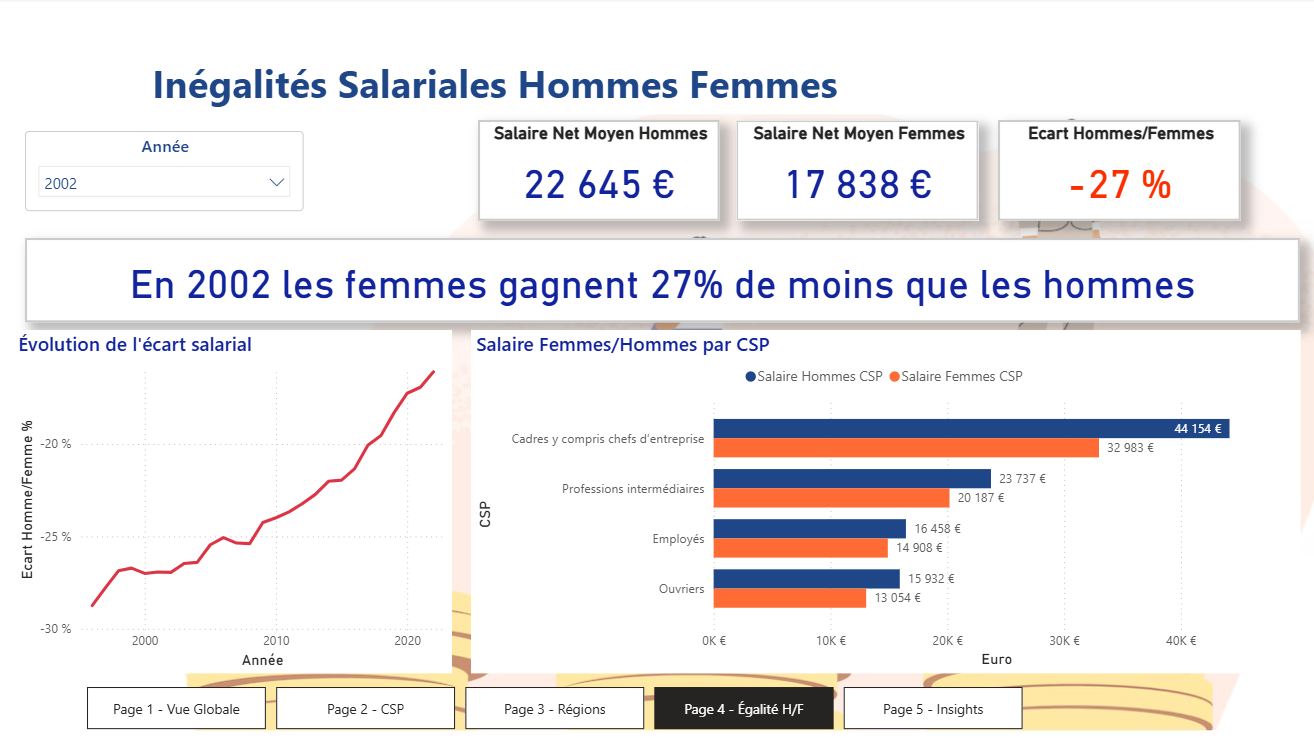

What the dashboard file says about the page in this screenshot:
{"tool":"powerbi","page":{"name":"Page 4 - Égalité H/F","canvas":[1280,720],"ordinal":3},"visuals":[{"type":"card","title":"Salaire Net Moyen Hommes","fields":{"Values":["_Measure.Salaire Hommes"]},"box":[466.3,118.5,235,98.4],"z":0},{"type":"card","title":"Salaire Net Moyen Femmes","fields":{"Values":["_Measure.Salaire Femmes"]},"box":[717.3,118.5,235.9,98.4],"z":1000},{"type":"textbox","box":[25.7,34.6,914.2,78],"z":2000},{"type":"slicer","title":"Année","fields":{"Values":["_Calendrier.Annee"]},"box":[25.7,129.3,271.2,78.2],"z":3000},{"type":"card","title":"SMIC Net Annuel","fields":{"Values":["_Measure.Ecart HF phrase"]},"box":[25.7,233.1,1240.5,82],"z":4000},{"type":"card","title":"Ecart Hommes/Femmes","fields":{"Values":["_Measure.Ecart HF %"]},"box":[971.8,118.5,235.9,98.4],"z":5000},{"type":"lineChart","title":"Évolution de l''écart salarial","fields":{"Category":["_Calendrier.Date.Variation.Date Hierarchy.Year"],"Y":["_Measure.Ecart HF %"]},"box":[13.6,322.9,427,333.6],"z":6000},{"type":"clusteredBarChart","title":"Salaire Femmes/Hommes par CSP","fields":{"Category":["Dim_CSP.Libelle"],"Y":["_Measure.Salaire Hommes CSP","_Measure.Salaire Femmes CSP"]},"box":[459.1,322.9,807.3,333.6],"z":7000},{"type":"pageNavigator","box":[85.6,670.2,913.3,41.8],"z":7001}]}

Visuals, with their boxes in screenshot pixels (x1, y1, x2, y2), scaled from the page's 1280x720 canvas onto the 1314x738 screenshot:
"Salaire Net Moyen Hommes" card: <region>479, 121, 720, 222</region>
"Salaire Net Moyen Femmes" card: <region>736, 121, 979, 222</region>
textbox: <region>26, 35, 965, 115</region>
"Année" slicer: <region>26, 133, 305, 213</region>
"SMIC Net Annuel" card: <region>26, 239, 1300, 323</region>
"Ecart Hommes/Femmes" card: <region>998, 121, 1240, 222</region>
"Évolution de l''écart salarial" lineChart: <region>14, 331, 452, 673</region>
"Salaire Femmes/Hommes par CSP" clusteredBarChart: <region>471, 331, 1300, 673</region>
pageNavigator: <region>88, 687, 1025, 730</region>
